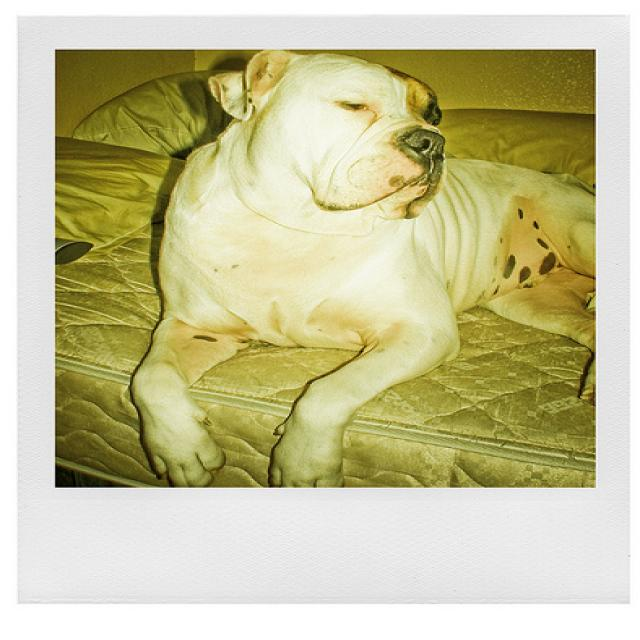dog-american_bulldog: (117, 46, 608, 494)
